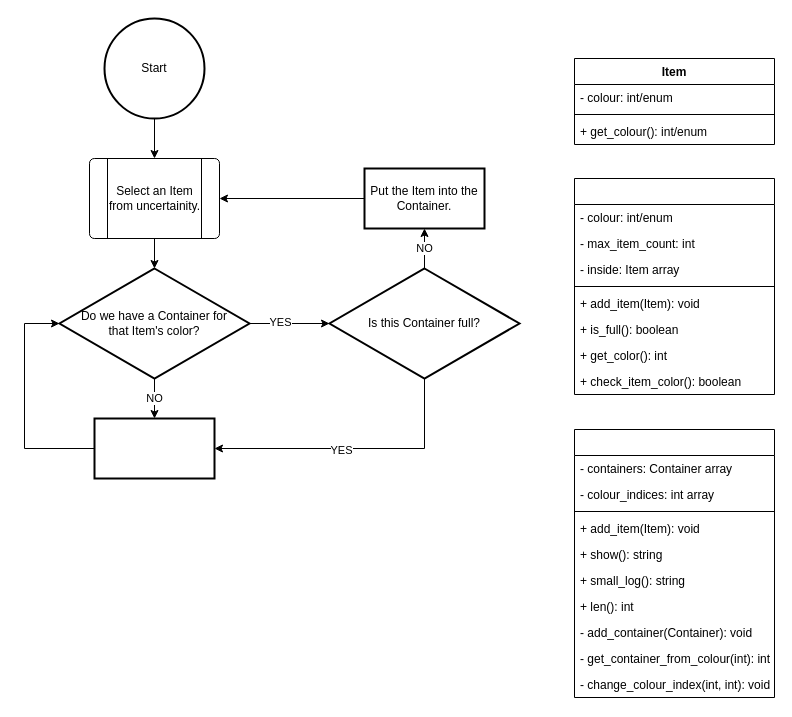
Image size: 792x717. Some labels were removed from this diagram. Here are the shapes that lost their labels. From the top down, the box of each, then its label:
(574, 178, 774, 394): Container
(93, 417, 215, 479): Create a new Container with that color.
(574, 428, 774, 698): ContainerList
